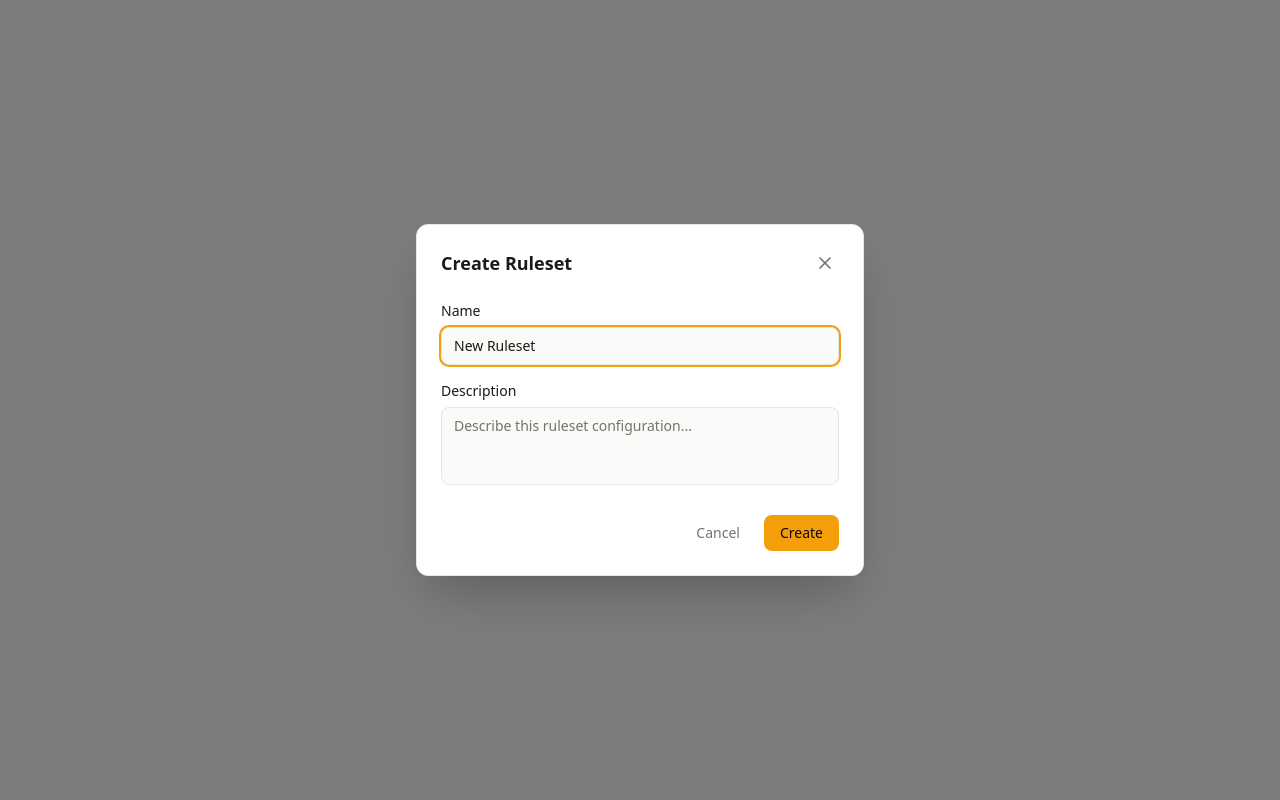
CreateResourceDialog › handles submission error and displays error message
Click the button with test id "create-resource-submit". click: (801,533)
box: [764,515,839,551]
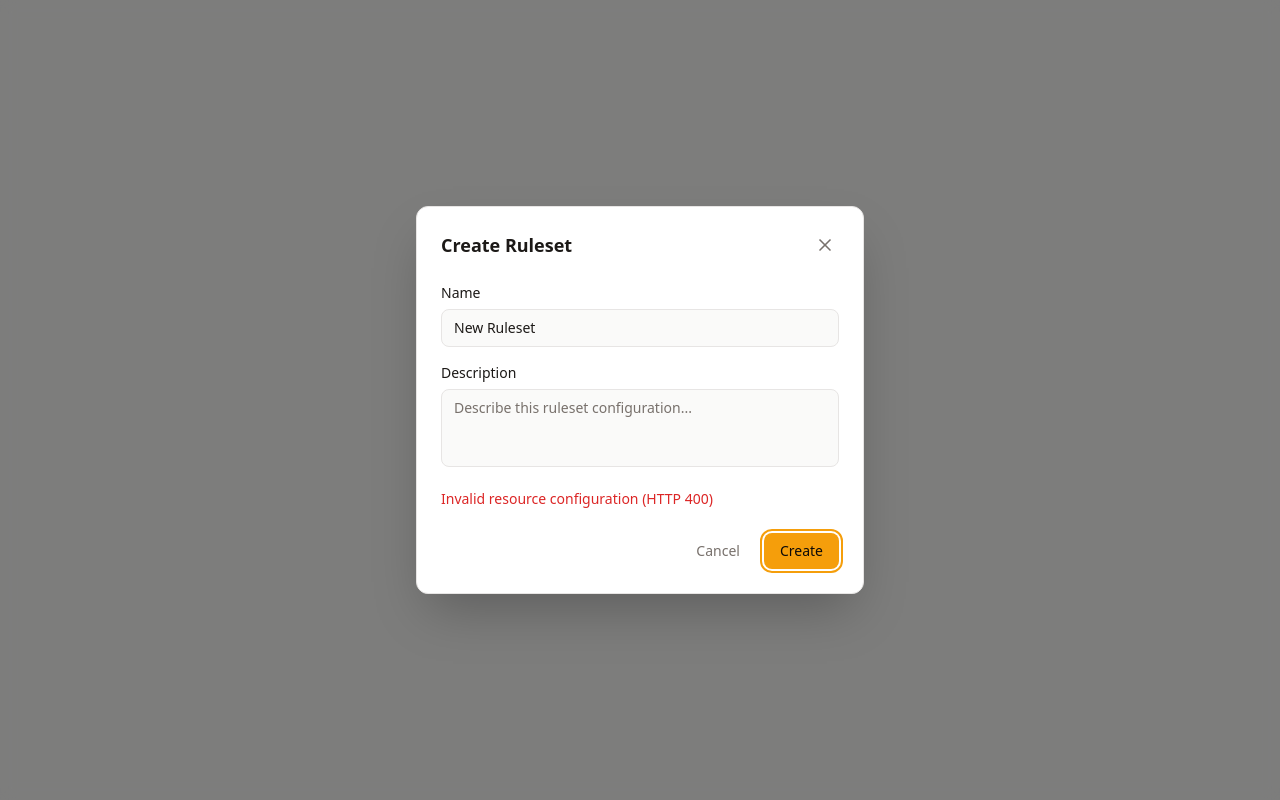
Now the text with test id "create-resource-error" shows "Invalid resource configuration", box [441,489,713,508]
